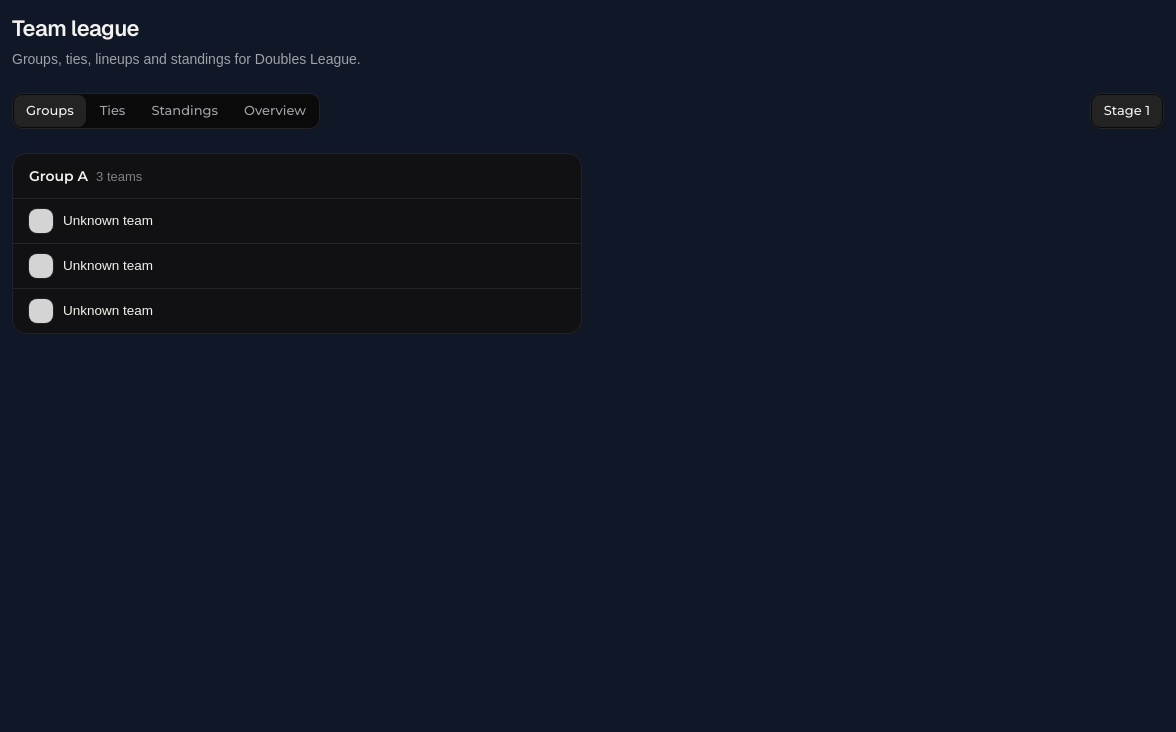
Scenario: TeamLeagueSection — standings freshness › shows the completed tie count rather than the count from page load
The width and height of the screenshot is (1176, 732).
Click the button "Standings" at (185, 111), box [139,95,230,126]
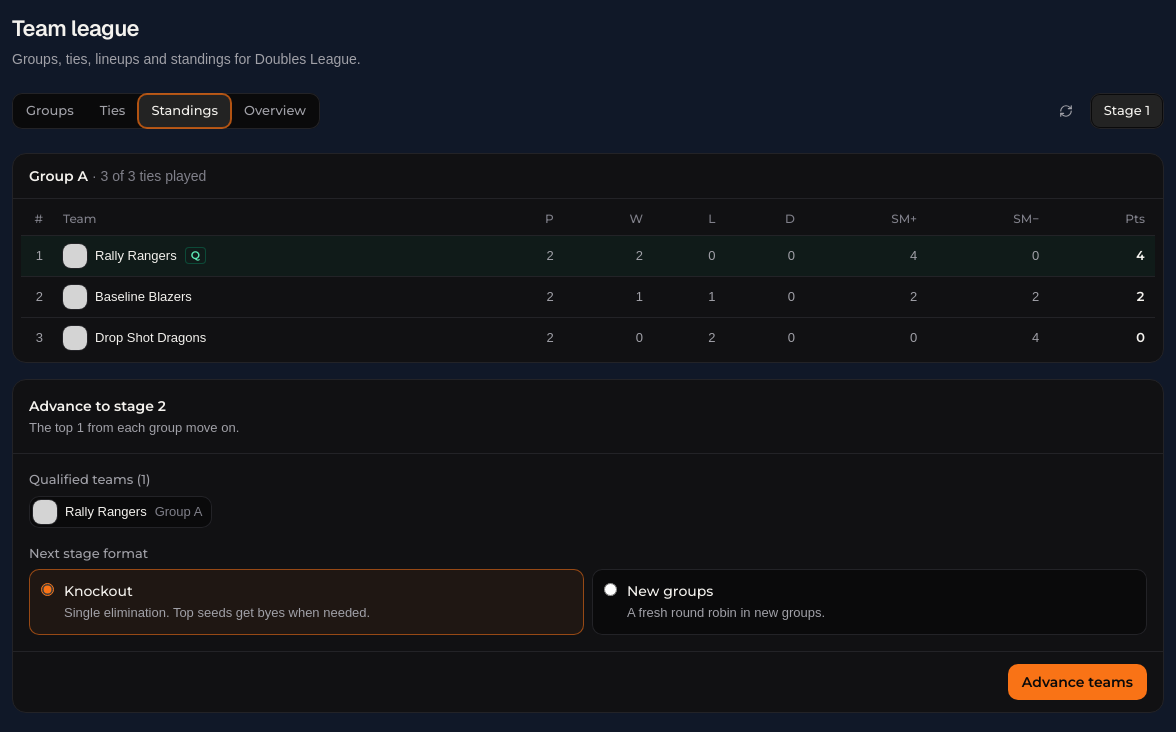
expect the text "3 of 3 ties played" is shown: met, box [100,168,206,184]
